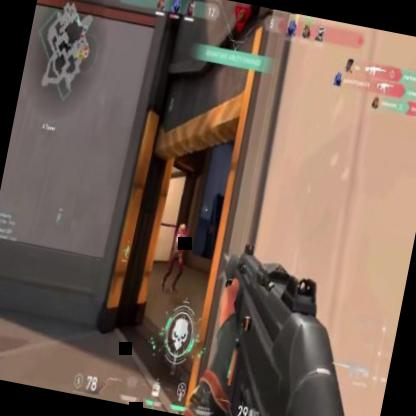enemy: (158, 221, 192, 296)
enemy_head: (176, 223, 186, 239)
